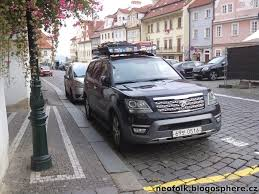licence-plate: (174, 129, 202, 134)
